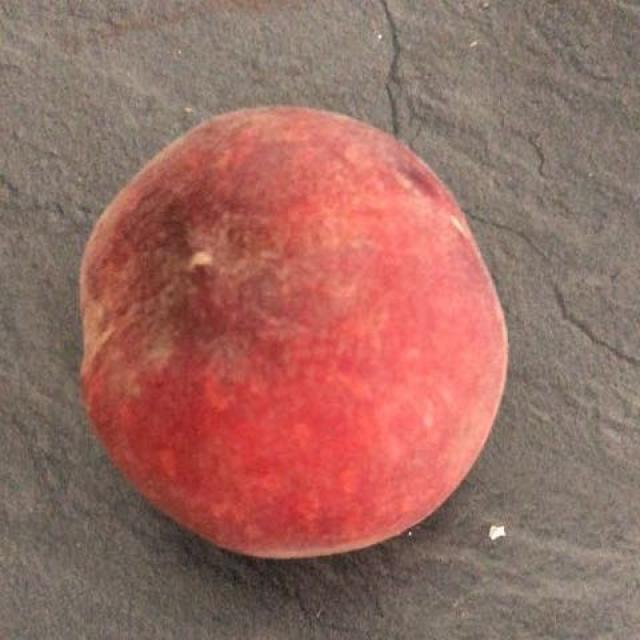peach: (78, 114, 494, 530)
